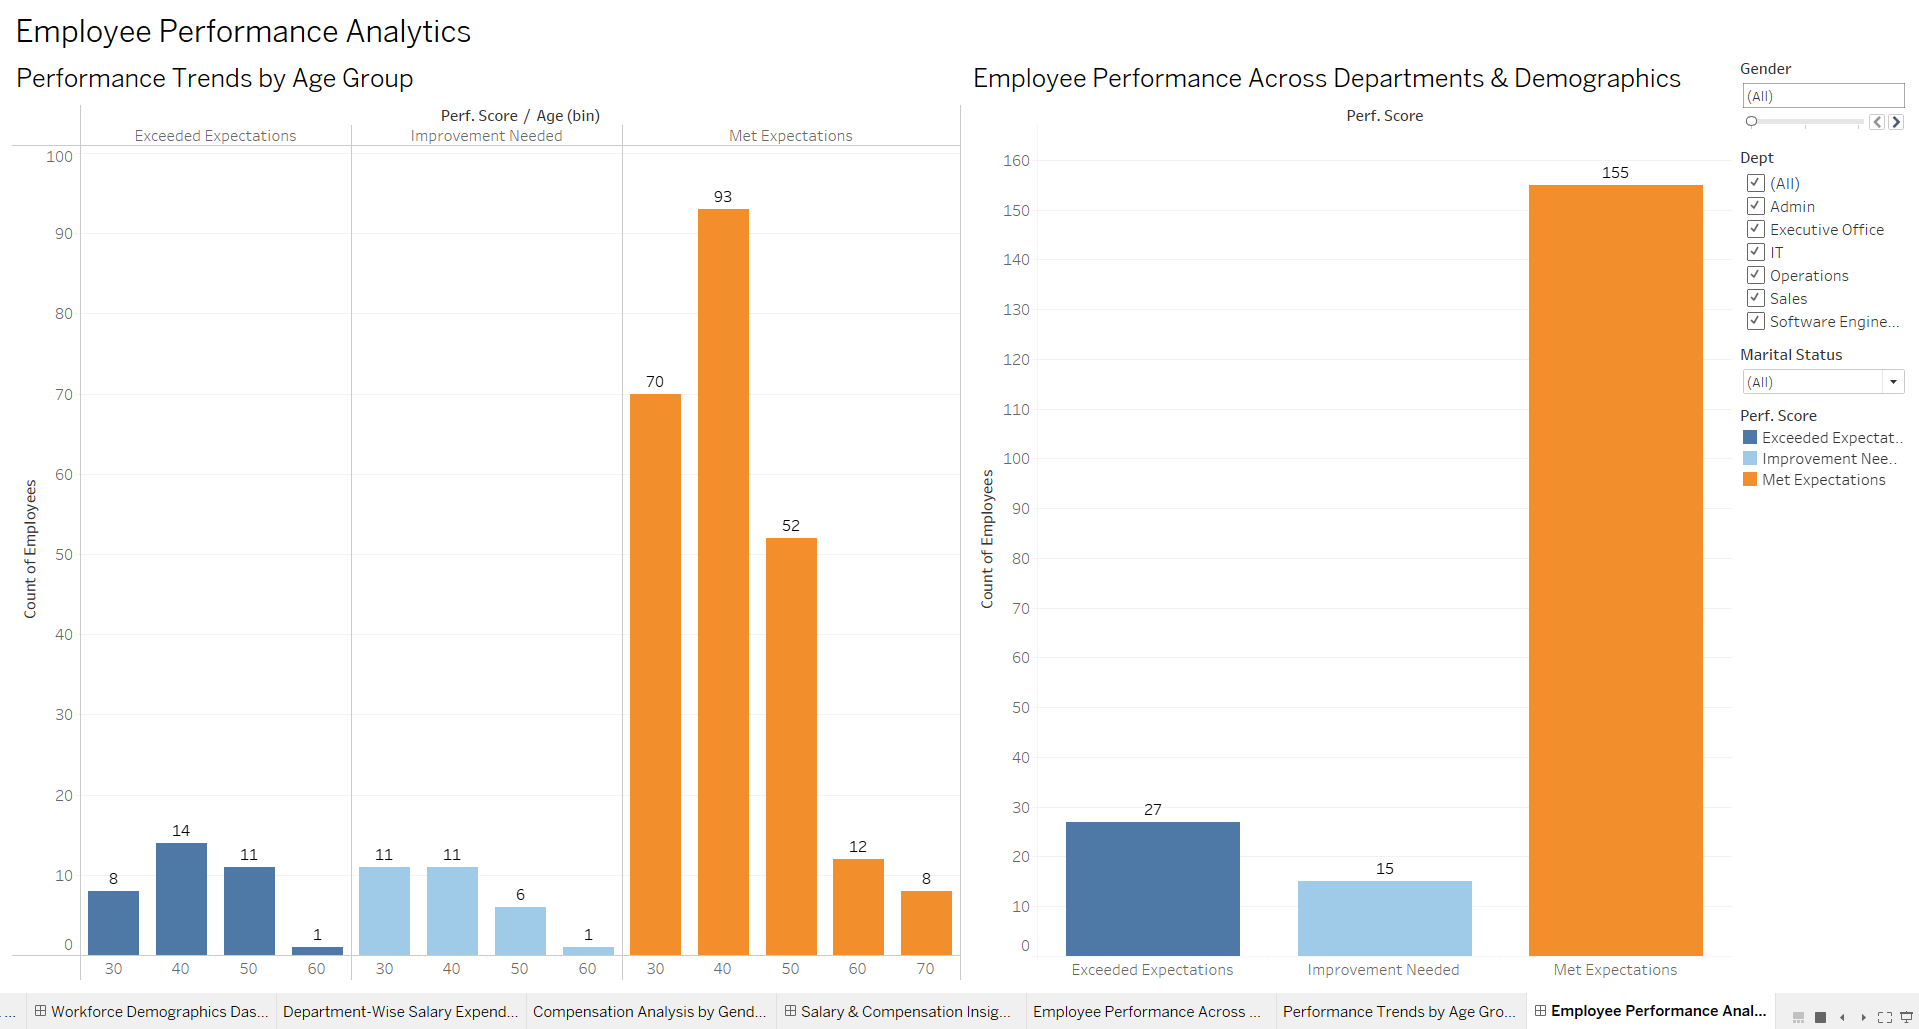

The dashboard page shown, as its layout file describes it:
{"tool":"tableau","page":{"name":"Employee Performance Analytics","canvas":[1000,1000],"units":"permille","ordinal":0},"visuals":[{"type":"title","box":[7.7,10.1,984.7,58.1]},{"type":"worksheet","title":"Performance Trends by Age Group","mark":"Bar","rows":["Employee ID"],"cols":["Perf. Score","Age (bin)"],"box":[7.7,68.3,452.3,921.6]},{"type":"worksheet","title":"Employee Performance Across Departments & Demographics","mark":"Bar","rows":["Employee ID"],"cols":["Perf. Score"],"box":[459.9,68.3,364.2,921.6]},{"type":"filter","title":"Employee Performance Across Departments & Demographics","param":"[federated.0c867ru0xy12iw1aba2a404u1c0z].[none:Gender:nk]","box":[824.1,68.3,168.3,112.5]},{"type":"filter","title":"Employee Performance Across Departments & Demographics","param":"[federated.0c867ru0xy12iw1aba2a404u1c0z].[none:Dept:nk]","box":[824.1,180.8,168.3,249.1]},{"type":"filter","title":"Performance Trends by Age Group","param":"[federated.0c867ru0xy12iw1aba2a404u1c0z].[none:Marital Status:nk]","box":[824.1,429.8,168.3,77.1]},{"type":"legend","title":"Employee Performance Across Departments & Demographics","param":"[federated.0c867ru0xy12iw1aba2a404u1c0z].[none:Perf. Score:nk]","box":[824.1,506.9,168.3,117.6]}]}

Visuals, with their boxes on the dashboard's canvas, which has no fixed pixel size, in thousandths of its width and height (x1, y1, x2, y2). These are canvas units, not pixel positions in the 1919x1029 screenshot, which may show the page scaled, cropped or inside an application window:
title: (8,10,992,68)
"Performance Trends by Age Group" worksheet (Bar marks): (8,68,460,990)
"Employee Performance Across Departments & Demographics" worksheet (Bar marks): (460,68,824,990)
"Employee Performance Across Departments & Demographics" filter: (824,68,992,181)
"Employee Performance Across Departments & Demographics" filter: (824,181,992,430)
"Performance Trends by Age Group" filter: (824,430,992,507)
"Employee Performance Across Departments & Demographics" legend: (824,507,992,624)
